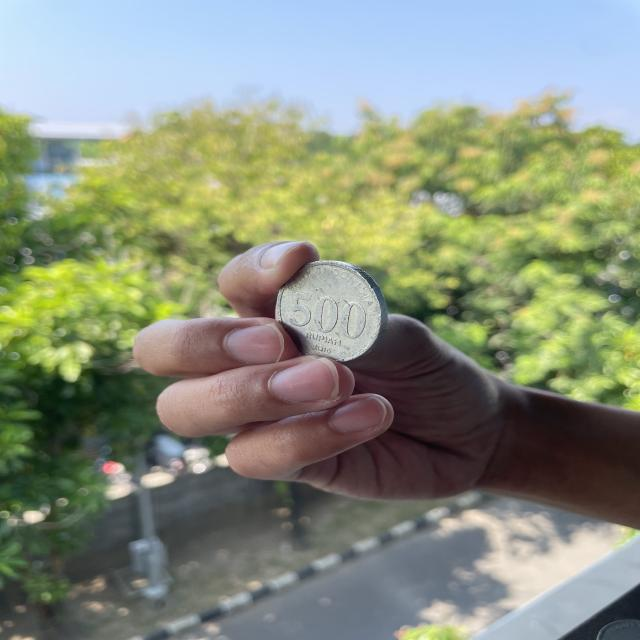500-silver: (262, 256, 395, 370)
